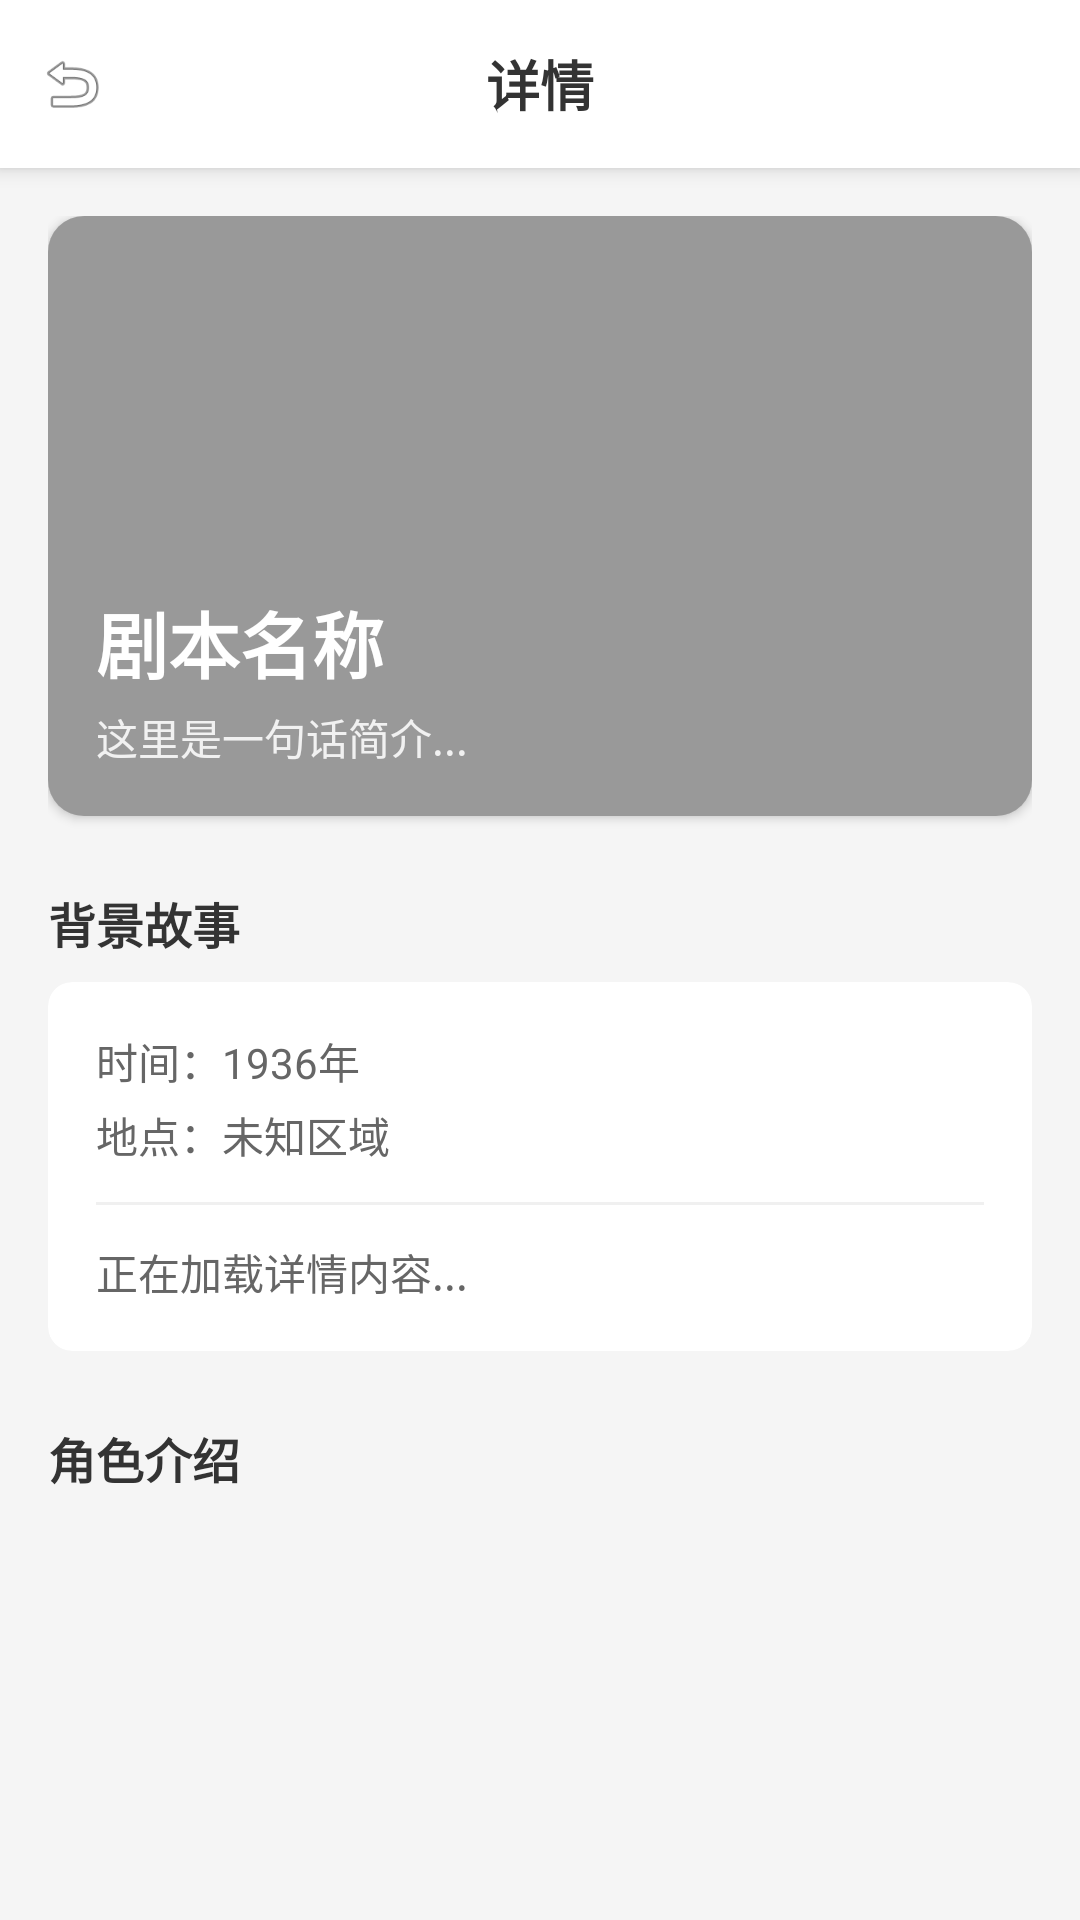

Where to tap for icons on this 1080*1920 app screen, as [x,y]:
revert: [73,84]
